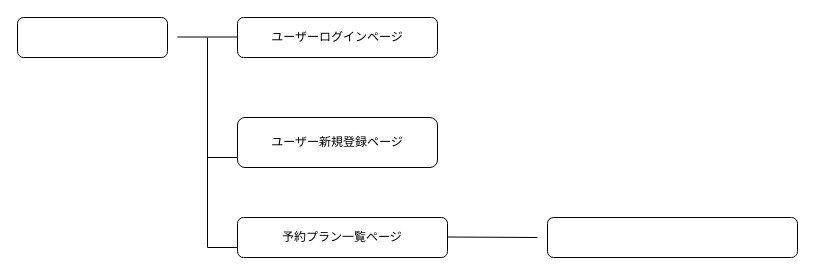
This 815x275 diagram has some shape labels left out. Each missing label, with the centre of its shape:
"一覧ページ" belongs at point (92, 37).
"予約プランも仕込みページ" belongs at point (672, 237).
